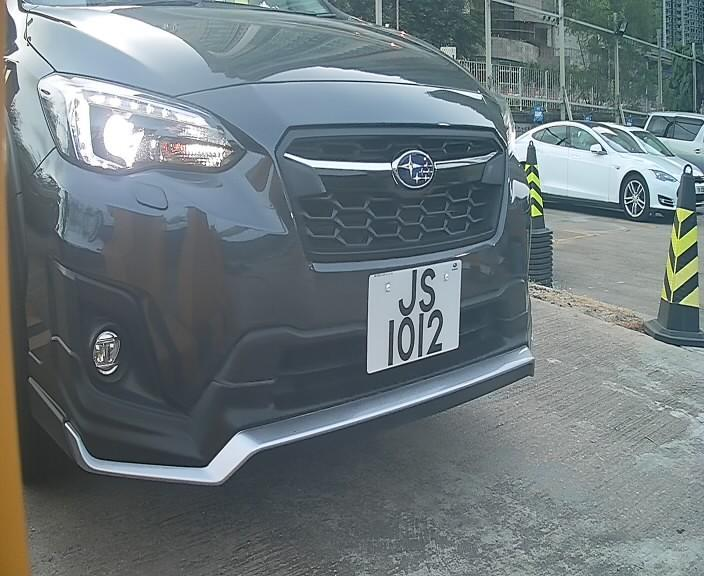License Plate: (362, 253, 463, 381)
